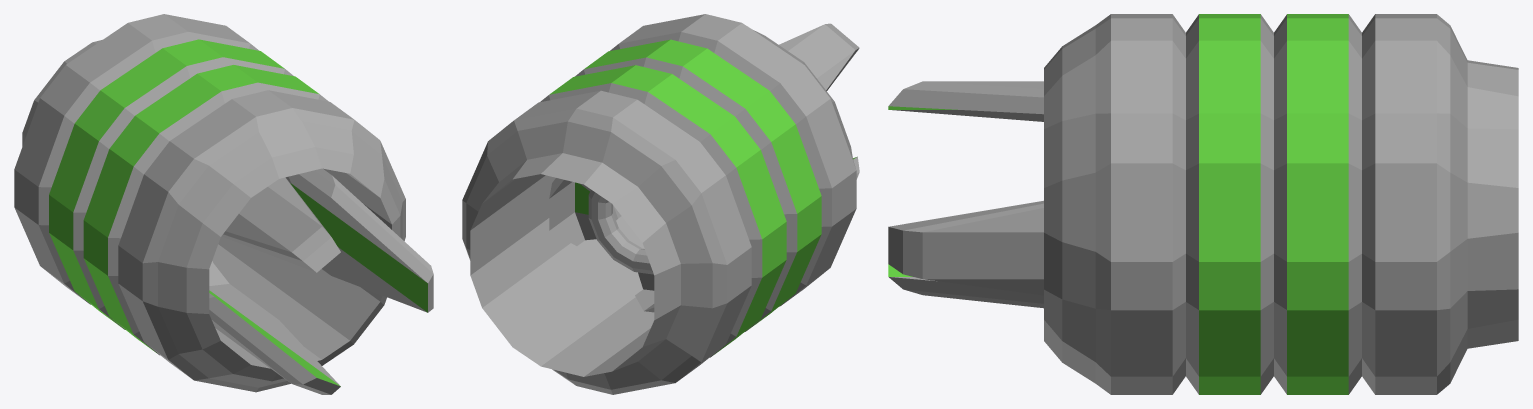
Rendered from FutFBX_TurbineAirNew.fbx.
3 views of the same model, side by side, from view 1: azimuth 30°, elevation 25°; view 2: azimuth 150°, elevation 25°; view 3: azimuth 270°, elevation 25° (orthographic). The views are drawn at different scales.
Parts seen in each view (by area): view 1: airturbine_body, body; view 2: airturbine_body, body; view 3: airturbine_body, body.
Part boxes in pixels (bbox=[...]): airturbine_body: bbox=[14, 14, 405, 392]; body: bbox=[209, 168, 433, 394]; airturbine_body: bbox=[462, 14, 856, 394]; body: bbox=[549, 23, 859, 312]; airturbine_body: bbox=[1044, 14, 1518, 394]; body: bbox=[888, 81, 1043, 308].
Size of the model in its own units: 10346 by 10346 by 16894.
